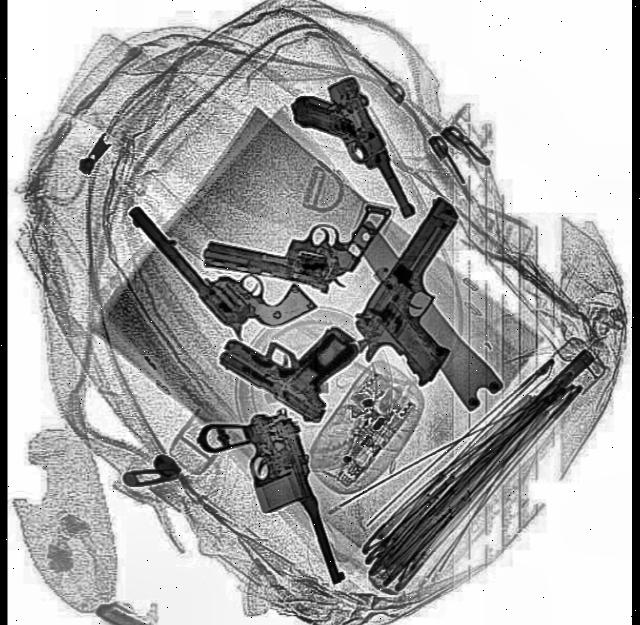Gun: (125, 150, 316, 367), (338, 188, 513, 400), (192, 392, 343, 614), (284, 62, 421, 248), (200, 174, 391, 300), (213, 278, 362, 430)
